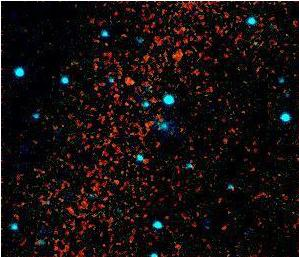star: (204, 211, 234, 241)
